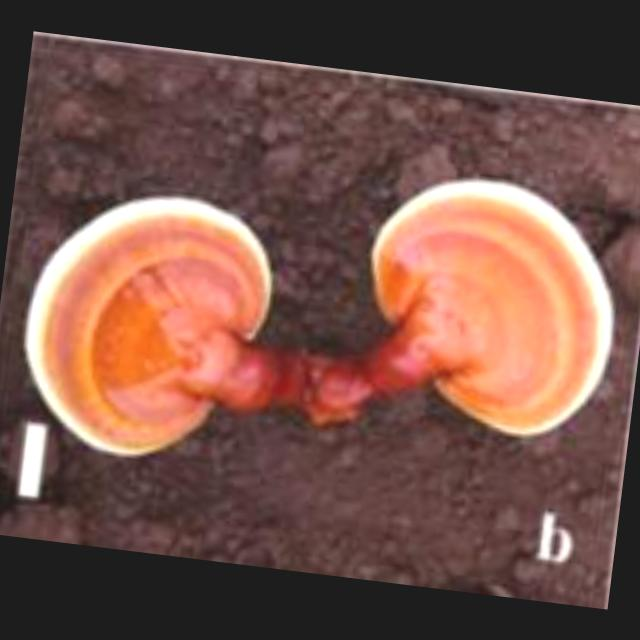ganoderma: (8, 177, 286, 475), (350, 166, 636, 452)
